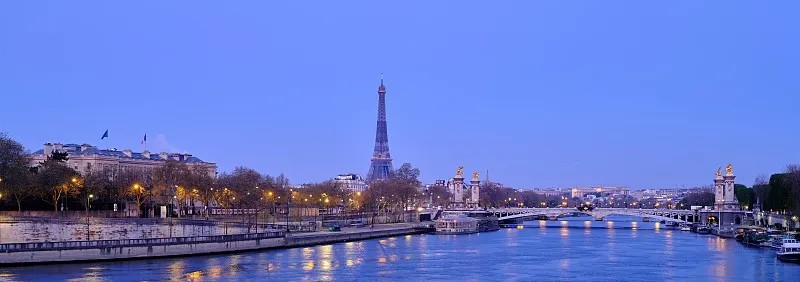Eiffel: (365, 72, 394, 182)
